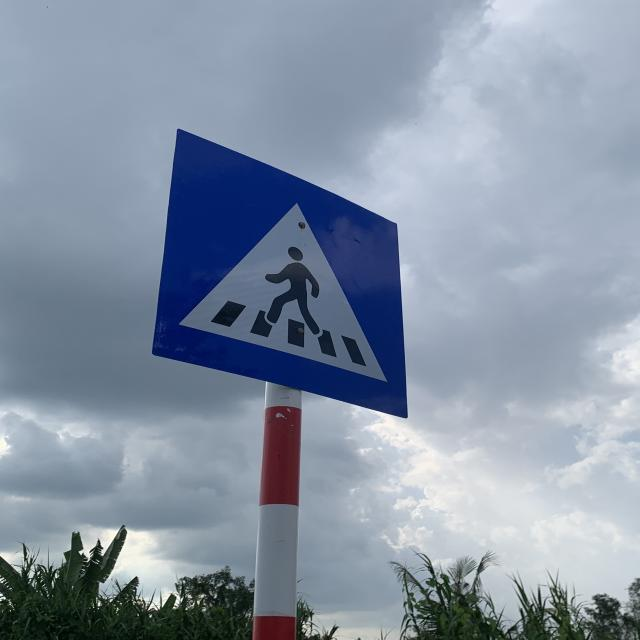Giao_Nhau_Duong_Uu_Tien: (152, 128, 408, 417)
